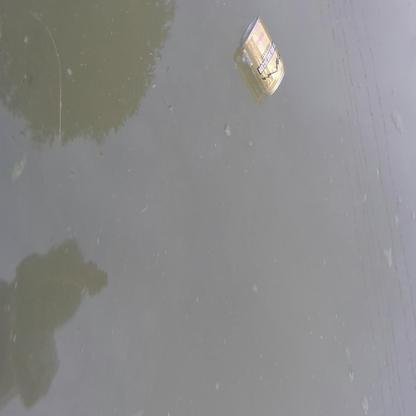can: (240, 17, 286, 96)
